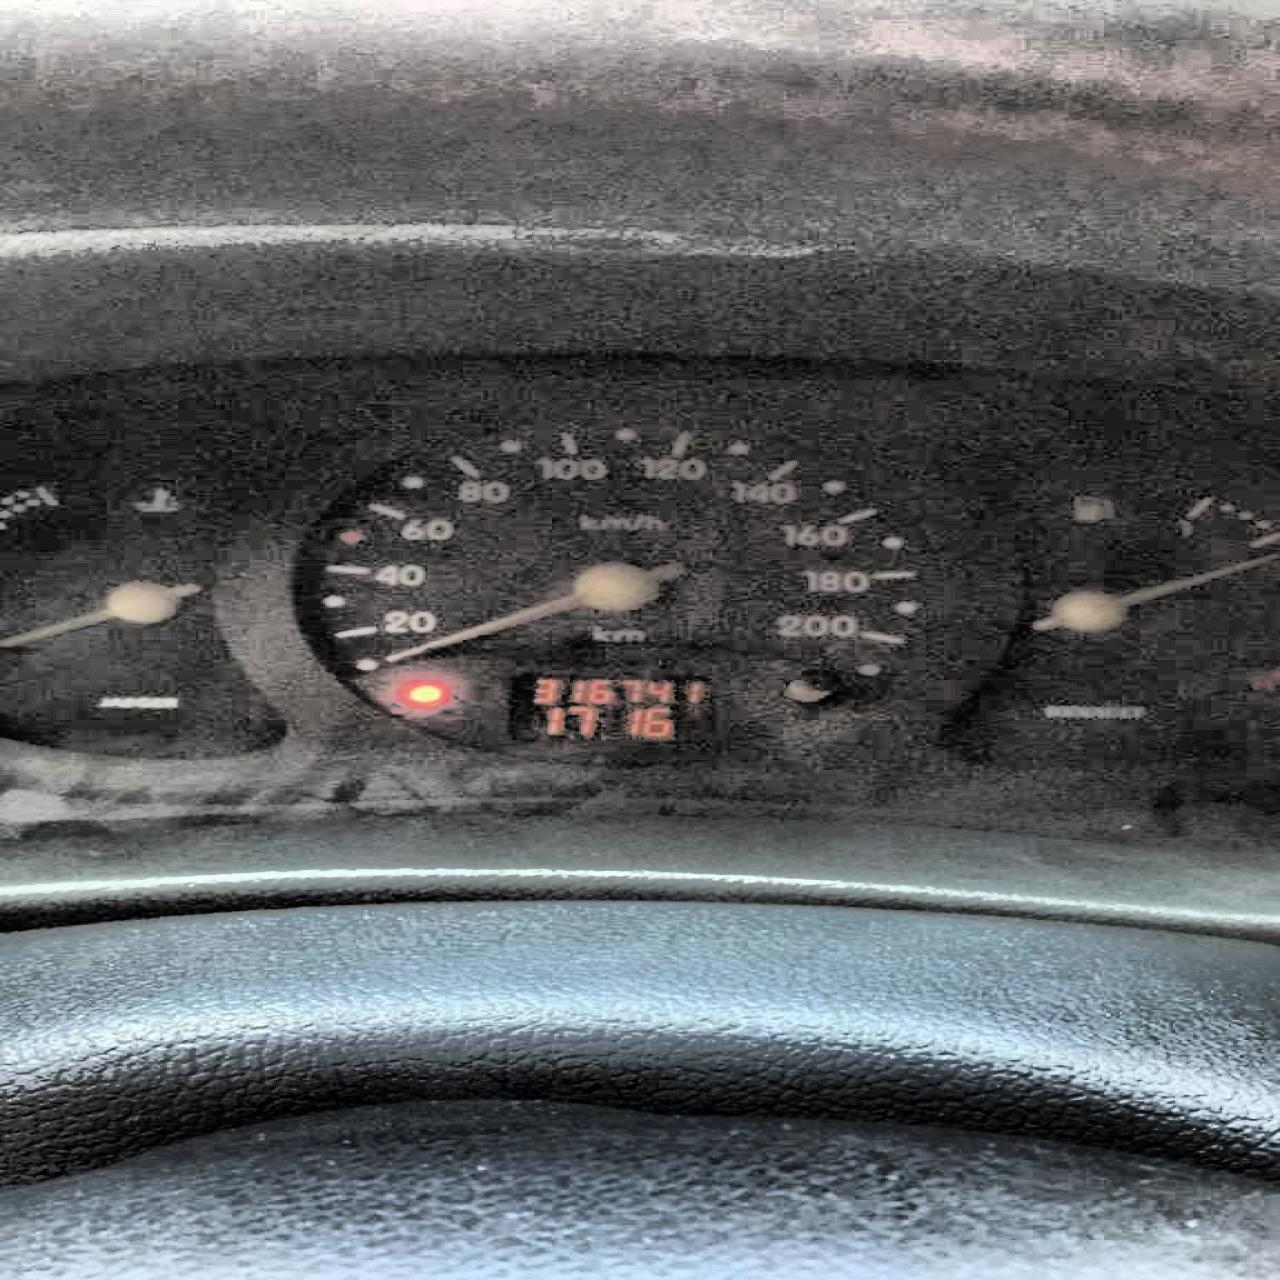1: (545, 706, 559, 735), (628, 708, 641, 734), (686, 680, 700, 702), (570, 679, 584, 700)
3: (532, 678, 554, 701)
4: (646, 680, 673, 702)
6: (644, 706, 669, 736), (587, 679, 612, 701)
7: (566, 704, 592, 735), (619, 678, 641, 700)
odometer: (503, 670, 719, 745)
